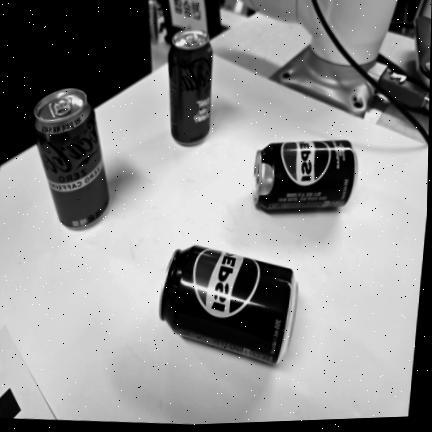can_coke_decaf: (33, 88, 109, 228)
can_coke_zero: (168, 30, 212, 144)
can_pepsi: (159, 246, 297, 363)
can_pepsi_zero: (253, 140, 357, 209)
